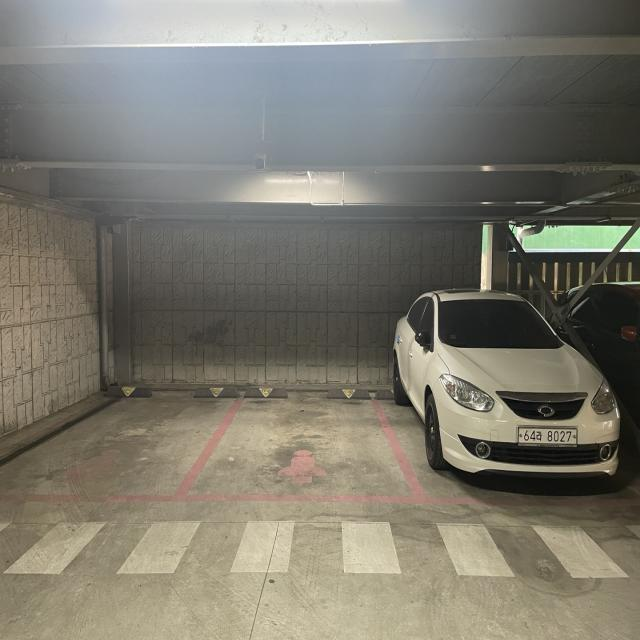empty: (210, 384, 422, 577), (34, 370, 218, 520)
occupied: (407, 285, 624, 490)
